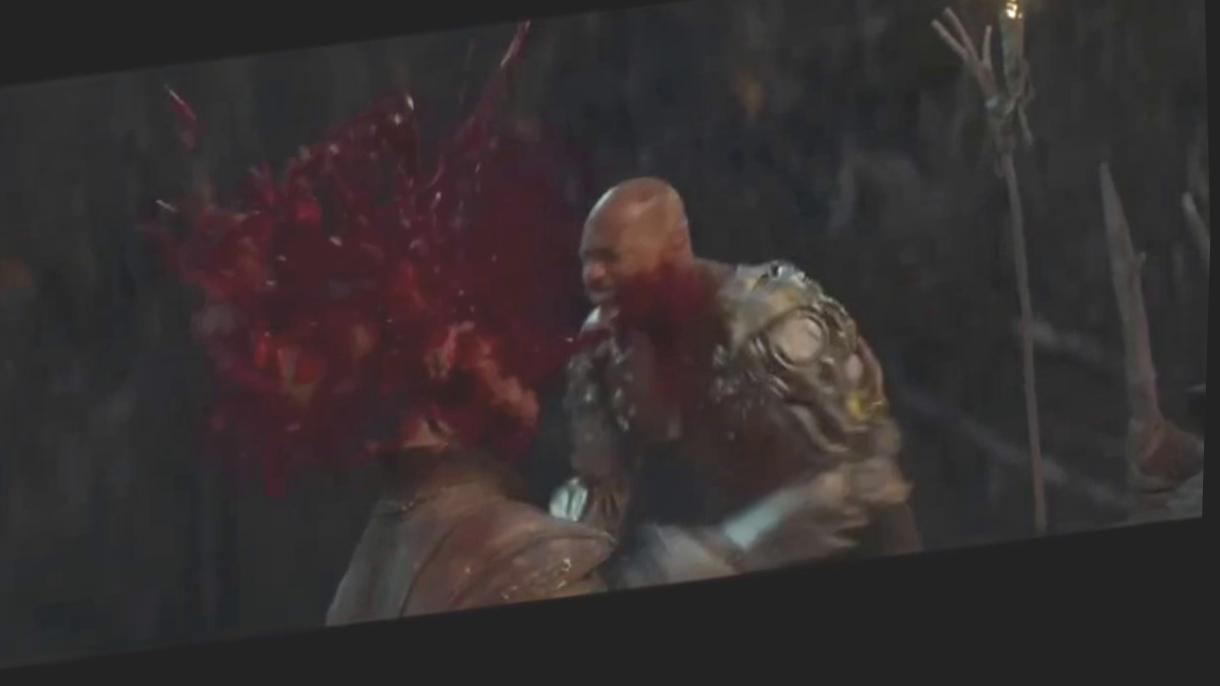Fire: (142, 30, 595, 517), (620, 239, 733, 448), (160, 85, 196, 126)
